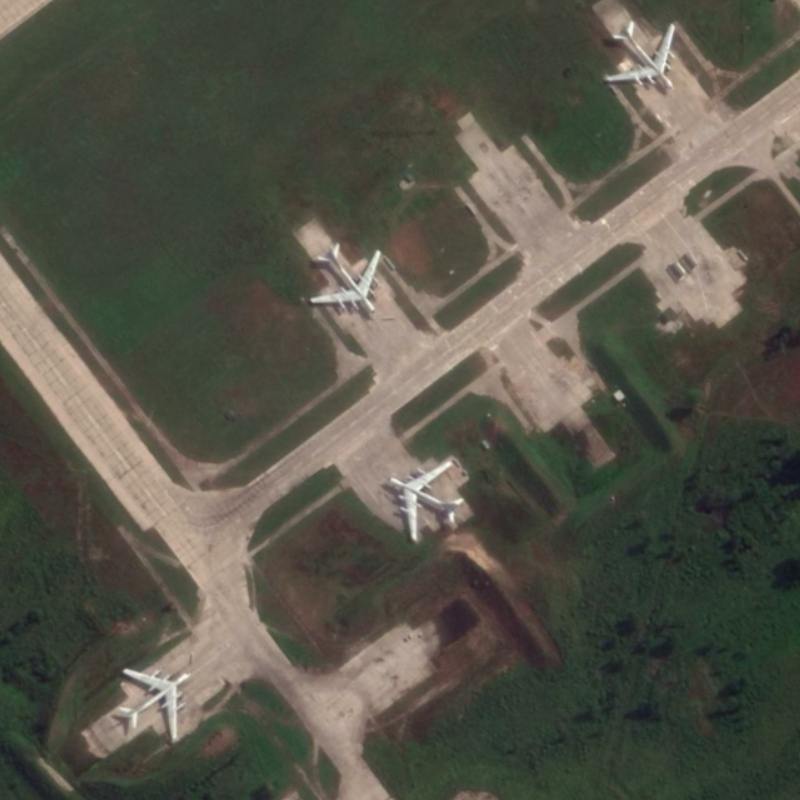A17: (386, 460, 466, 543), (116, 667, 191, 743), (308, 241, 383, 316), (603, 19, 677, 91)
